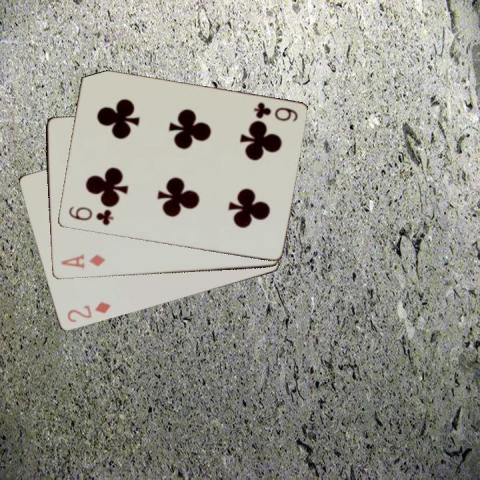2d: (63, 298, 112, 324)
6c: (65, 202, 115, 227), (250, 100, 299, 124)
Ad: (57, 251, 107, 271)
